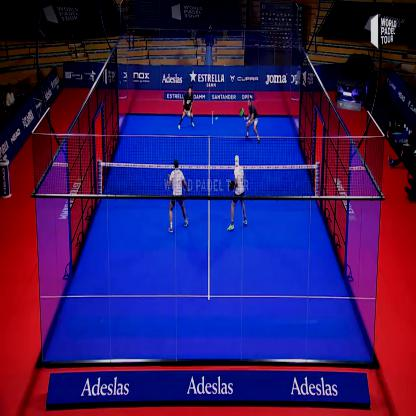ball: (212, 111, 219, 125)
